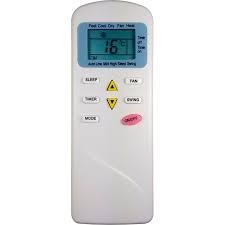remote control: (70, 2, 155, 225)
